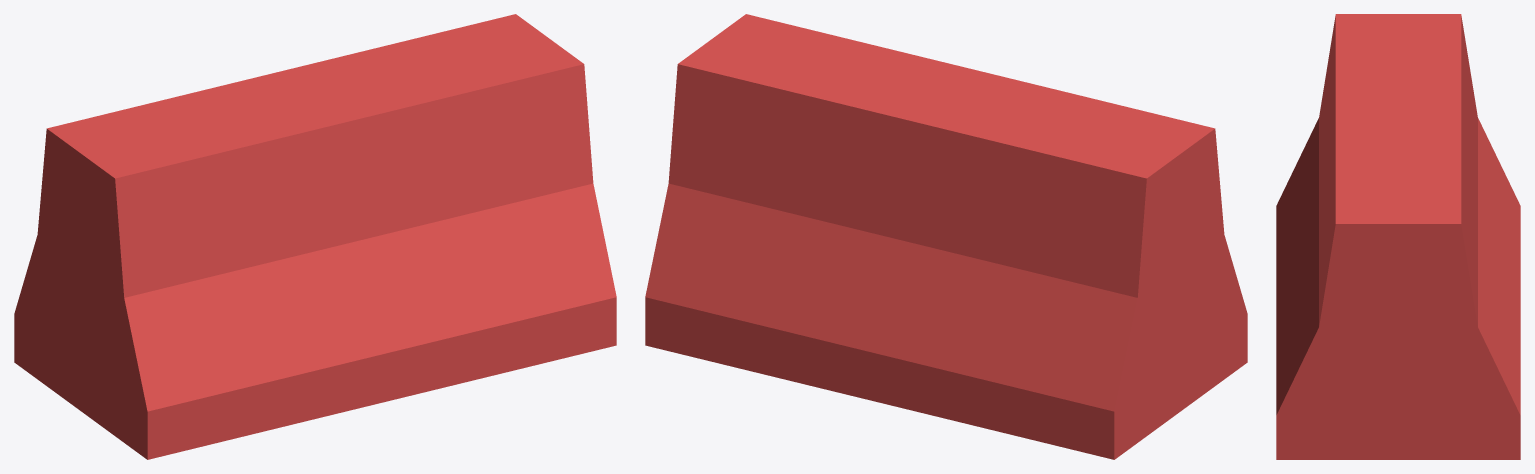
The model's file is barrier-red.dae.
The picture shows the model from 3 angles, left to right: view 1: azimuth 30°, elevation 25°; view 2: azimuth 150°, elevation 25°; view 3: azimuth 270°, elevation 25°; orthographic projection. The views are drawn at different scales.
Parts seen in each view (by area): view 1: barrierRed; view 2: barrierRed; view 3: barrierRed.
Boxes of the visible parts, bbox=[...] form: barrierRed: bbox=[14, 14, 616, 459]; barrierRed: bbox=[645, 14, 1247, 459]; barrierRed: bbox=[1276, 14, 1520, 459].
Size of the model in its own units: 0.25 by 0.1312 by 0.123.
